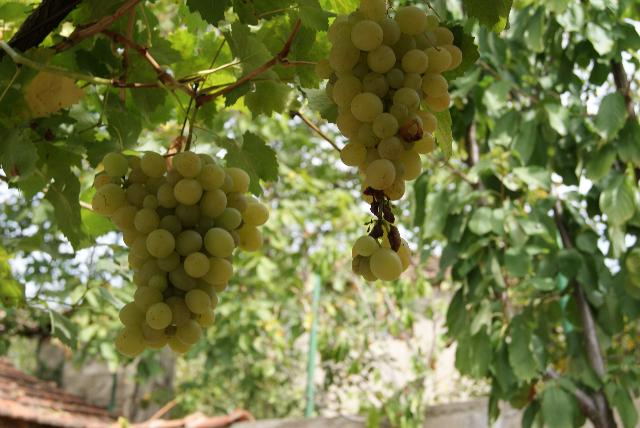grapes: (315, 0, 462, 280), (91, 151, 269, 356)
